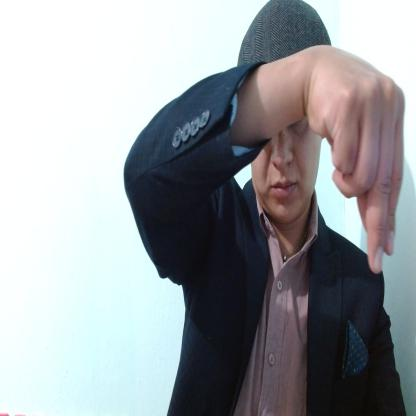N: (307, 44, 405, 274)
